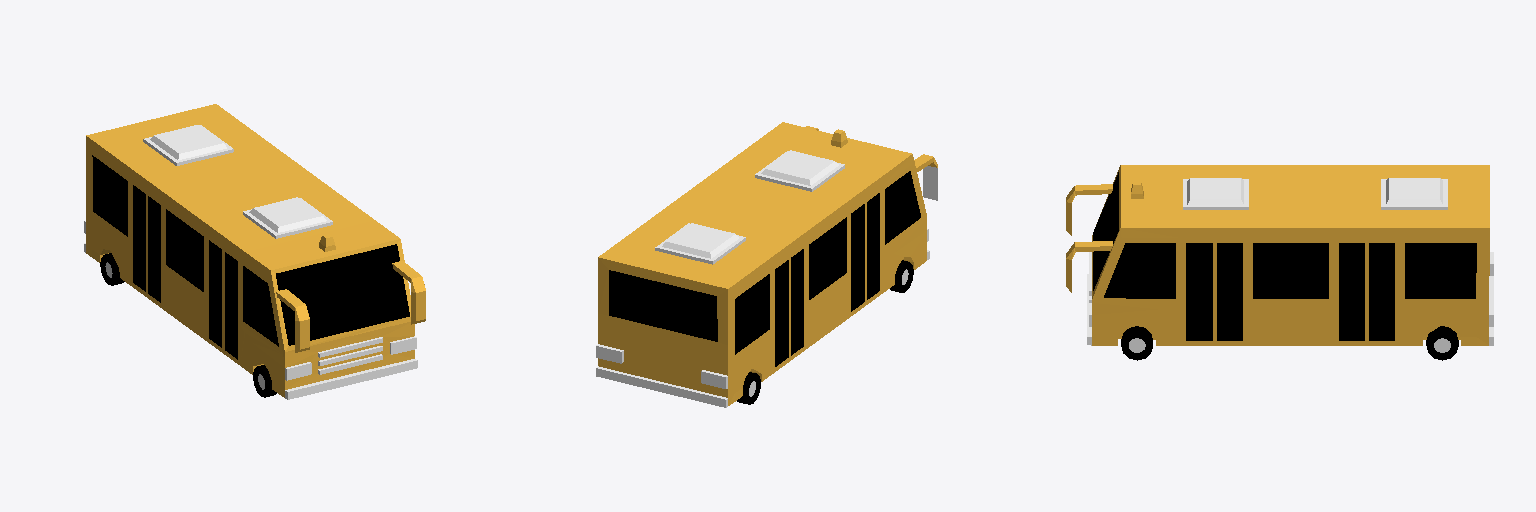
The model's file is car.4.obj.
The picture shows the model from 3 angles: view 1: azimuth 30°, elevation 25°; view 2: azimuth 150°, elevation 25°; view 3: azimuth 270°, elevation 25°; orthographic projection.
Parts seen in each view (by area): view 1: car5; view 2: car5; view 3: car5.
Part boxes in pixels (left/top/right/bottom): car5: left=84, top=104, right=425, bottom=399; car5: left=596, top=122, right=937, bottom=407; car5: left=1066, top=165, right=1493, bottom=360.
Size of the model in its own units: 2.52 by 2.61 by 7.01.